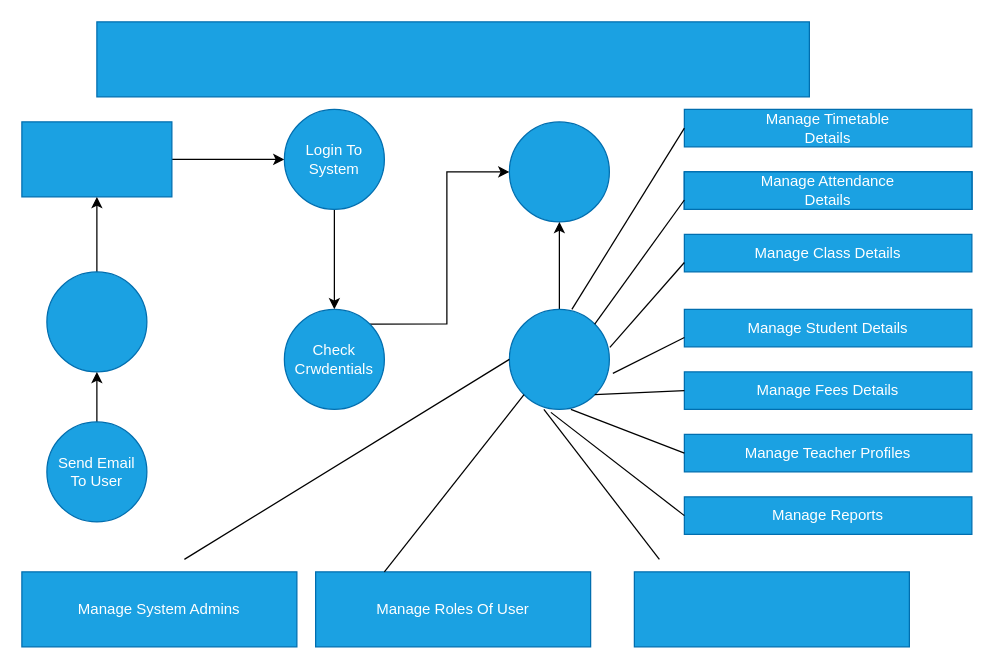
Image size: 994x669. Some labels were removed from this diagram. Each missing label, with the centre of its shape:
"Admin" goes at point 96,159.
"Check Role Of Access" goes at point 558,171.
"Forgot Password" goes at point 96,321.
"Manage Modules" goes at point 558,358.
"Student Information System" goes at point 452,59.
